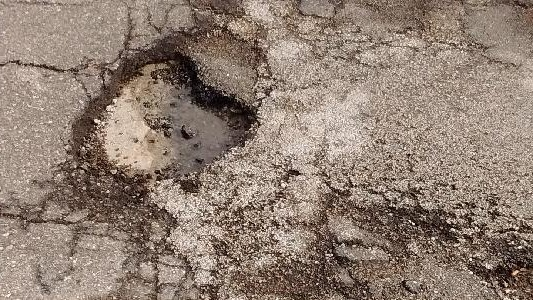pothole: (64, 40, 266, 196), (485, 256, 532, 299)
